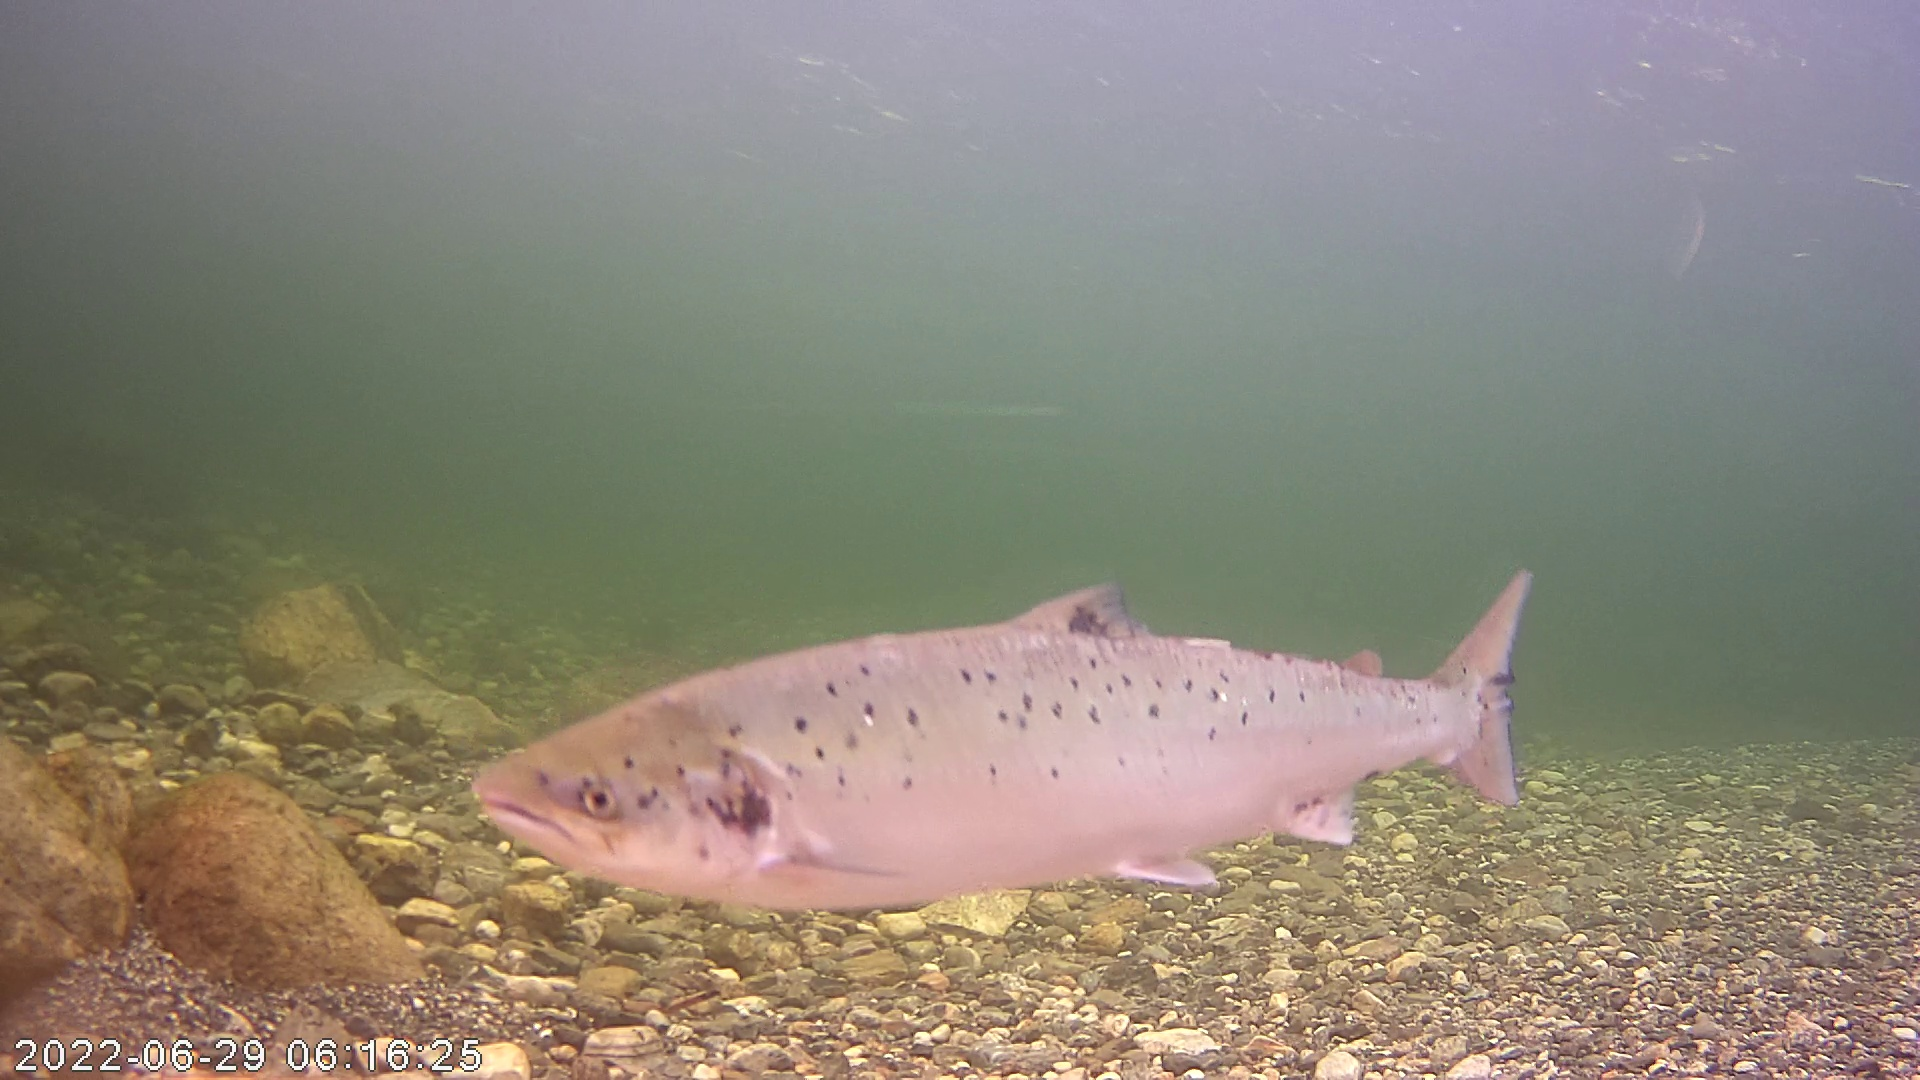salmon: (488, 473, 1523, 920)
